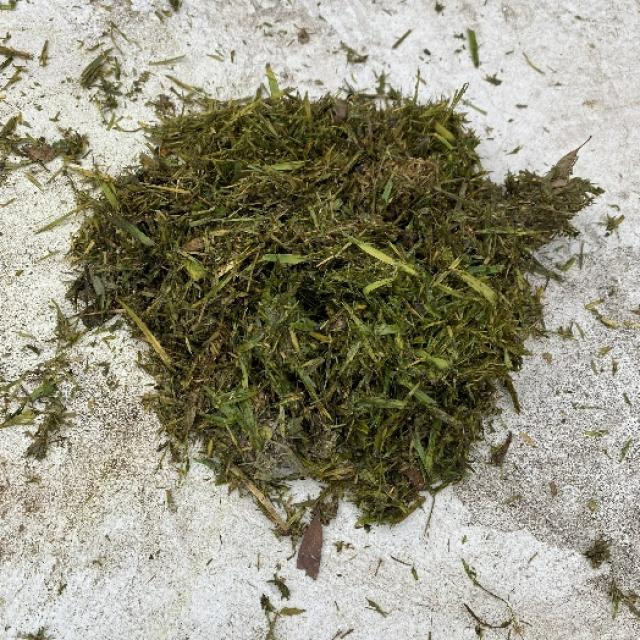organik: (87, 79, 579, 530)
